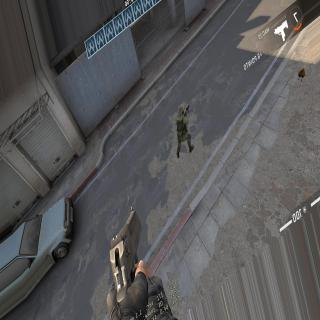CT-Body: (175, 99, 193, 156)
CT-Head: (178, 104, 185, 116)
